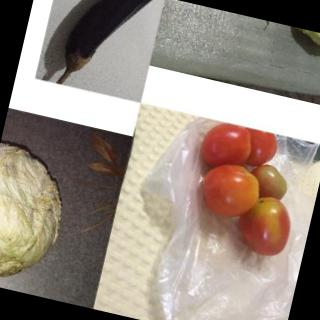Tomat: (167, 116, 319, 267)
